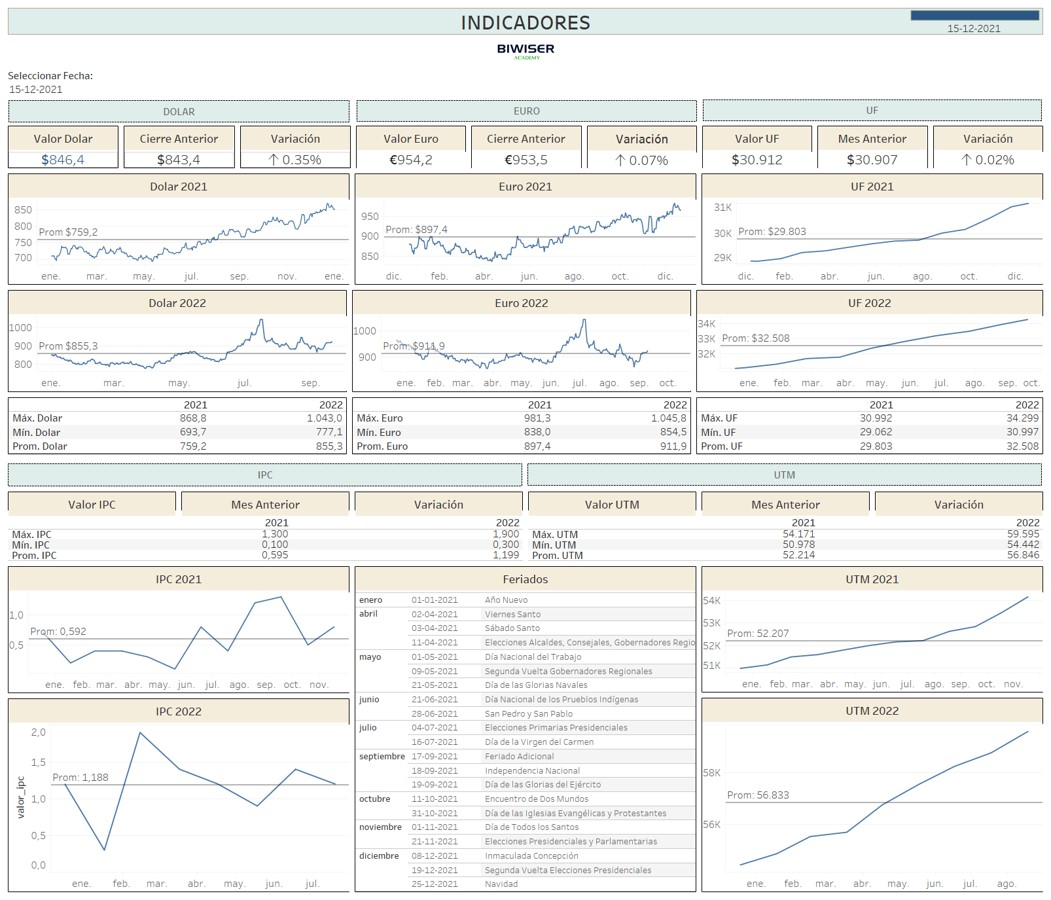

The dashboard page shown, as its layout file describes it:
{"tool":"tableau","page":{"name":"Dashboard 1","canvas":[1000,1000],"units":"permille","ordinal":0},"visuals":[{"type":"title","box":[5,5.8,989.9,35.6]},{"type":"legend","title":"Dolar","param":"[Parameters].[Parámetro 1]","box":[864.3,8.7,127.7,28.4]},{"type":"image","param":"Image/biwiser-logo.png","box":[5,41.5,989.9,31.3]},{"type":"parameter","param":"[Parameters].[Parámetro 1]","box":[5,72.7,989.9,40.7]},{"type":"text","box":[668.7,110.5,322.5,24]},{"type":"text","box":[8.1,111.3,324.4,24.7]},{"type":"text","box":[339.4,111.3,323.8,24]},{"type":"worksheet","title":"Dolar","mark":"Automatic","box":[5,136.7,110.4,53.4]},{"type":"worksheet","title":"Dolar -1","mark":"Automatic","box":[115.5,136.7,110.4,53.4]},{"type":"worksheet","title":"Dolar Dif","mark":"Automatic","box":[225.8,136.7,110.4,53.4]},{"type":"worksheet","title":"Euro","mark":"Automatic","box":[336.2,136.7,109.8,53.4]},{"type":"worksheet","title":"Euro -1","mark":"Automatic","box":[446,136.7,109.8,53.4]},{"type":"worksheet","title":"Euro Dif","mark":"Automatic","box":[555.8,136.7,109.8,53.4]},{"type":"worksheet","title":"UF","mark":"Automatic","box":[665.6,136.7,109.8,53.4]},{"type":"worksheet","title":"UF -1","mark":"Automatic","box":[775.3,136.7,109.8,53.4]},{"type":"worksheet","title":"UF Dif","mark":"Automatic","box":[885.1,136.7,109.8,53.4]},{"type":"worksheet","title":"Graf Dolar","mark":"Line","rows":["valor_dolar"],"cols":["fecha"],"box":[5,190.2,330,129.4]},{"type":"worksheet","title":"Graf Euro","mark":"Automatic","rows":["valor_euro"],"cols":["fecha"],"box":[335.1,190.2,330,129.4]},{"type":"worksheet","title":"Graf UF","mark":"Automatic","rows":["valor_uf"],"cols":["fecha"],"box":[665.1,190.2,329.8,129.4]},{"type":"worksheet","title":"Graf Dolar (2)","mark":"Line","rows":["valor_dolar"],"cols":["fecha"],"box":[5,319.6,327.7,118.9]},{"type":"worksheet","title":"Graf Euro (2)","mark":"Automatic","rows":["valor_euro"],"cols":["fecha"],"box":[332.8,319.6,327.6,118.9]},{"type":"worksheet","title":"Graf UF (2)","mark":"Automatic","rows":["valor_uf"],"cols":["fecha"],"box":[660.3,319.6,334.6,118.9]},{"type":"worksheet","title":"Tabla Dolar","mark":"Automatic","cols":["fecha"],"box":[5,438.5,327.7,68.9]},{"type":"worksheet","title":"Tabla Euro","mark":"Automatic","cols":["fecha"],"box":[332.8,438.5,327.6,68.9]},{"type":"worksheet","title":"Tabla UF","mark":"Automatic","cols":["fecha"],"box":[660.3,438.5,334.6,68.9]},{"type":"text","box":[7.5,514.9,489.4,25.4]},{"type":"text","box":[501.9,514.9,489.4,24.7]},{"type":"worksheet","title":"IPC","mark":"Automatic","box":[5,543.2,164.9,53.5]},{"type":"worksheet","title":"IPC -1","mark":"Automatic","box":[169.9,543.2,164.9,53.5]},{"type":"worksheet","title":"IPC Dif","mark":"Automatic","box":[334.8,543.2,165.5,53.5]},{"type":"worksheet","title":"UTM","mark":"Automatic","box":[500.3,543.2,164.9,53.5]},{"type":"worksheet","title":"UTM -1","mark":"Automatic","box":[665.2,543.2,164.9,53.5]},{"type":"worksheet","title":"UTM Dif","mark":"Automatic","box":[830,543.2,164.9,53.5]},{"type":"worksheet","title":"Graf IPC","mark":"Automatic","rows":["valor_ipc"],"cols":["fecha"],"box":[5,596.7,329.9,176.4]},{"type":"worksheet","title":"Feriados","mark":"Automatic","rows":["fecha","fecha","fecha (copia)_1547549436535631877"],"box":[335,596.7,330,397.5]},{"type":"worksheet","title":"Graf UTM","mark":"Automatic","rows":["valor_utm"],"cols":["fecha"],"box":[665,596.7,330,175.6]},{"type":"worksheet","title":"Graf UTM 2","mark":"Automatic","rows":["valor_utm"],"cols":["fecha"],"box":[665,772.4,330,221.8]},{"type":"worksheet","title":"Graf IPC (2)","mark":"Automatic","rows":["valor_ipc"],"cols":["fecha"],"box":[5,773.1,329.9,221.1]}]}

Visuals, with their boxes on the dashboard's canvas, which has no fixed pixel size, in thousandths of its width and height (x1, y1, x2, y2). These are canvas units, not pixel positions in the 1051x900 screenshot, which may show the page scaled, cropped or inside an application window:
title: (x1=5, y1=6, x2=995, y2=41)
"Dolar" legend: (x1=864, y1=9, x2=992, y2=37)
image: (x1=5, y1=42, x2=995, y2=73)
parameter: (x1=5, y1=73, x2=995, y2=113)
text: (x1=669, y1=110, x2=991, y2=134)
text: (x1=8, y1=111, x2=332, y2=136)
text: (x1=339, y1=111, x2=663, y2=135)
"Dolar" worksheet: (x1=5, y1=137, x2=115, y2=190)
"Dolar -1" worksheet: (x1=116, y1=137, x2=226, y2=190)
"Dolar Dif" worksheet: (x1=226, y1=137, x2=336, y2=190)
"Euro" worksheet: (x1=336, y1=137, x2=446, y2=190)
"Euro -1" worksheet: (x1=446, y1=137, x2=556, y2=190)
"Euro Dif" worksheet: (x1=556, y1=137, x2=666, y2=190)
"UF" worksheet: (x1=666, y1=137, x2=775, y2=190)
"UF -1" worksheet: (x1=775, y1=137, x2=885, y2=190)
"UF Dif" worksheet: (x1=885, y1=137, x2=995, y2=190)
"Graf Dolar" worksheet (Line marks): (x1=5, y1=190, x2=335, y2=320)
"Graf Euro" worksheet: (x1=335, y1=190, x2=665, y2=320)
"Graf UF" worksheet: (x1=665, y1=190, x2=995, y2=320)
"Graf Dolar (2)" worksheet (Line marks): (x1=5, y1=320, x2=333, y2=438)
"Graf Euro (2)" worksheet: (x1=333, y1=320, x2=660, y2=438)
"Graf UF (2)" worksheet: (x1=660, y1=320, x2=995, y2=438)
"Tabla Dolar" worksheet: (x1=5, y1=438, x2=333, y2=507)
"Tabla Euro" worksheet: (x1=333, y1=438, x2=660, y2=507)
"Tabla UF" worksheet: (x1=660, y1=438, x2=995, y2=507)
text: (x1=8, y1=515, x2=497, y2=540)
text: (x1=502, y1=515, x2=991, y2=540)
"IPC" worksheet: (x1=5, y1=543, x2=170, y2=597)
"IPC -1" worksheet: (x1=170, y1=543, x2=335, y2=597)
"IPC Dif" worksheet: (x1=335, y1=543, x2=500, y2=597)
"UTM" worksheet: (x1=500, y1=543, x2=665, y2=597)
"UTM -1" worksheet: (x1=665, y1=543, x2=830, y2=597)
"UTM Dif" worksheet: (x1=830, y1=543, x2=995, y2=597)
"Graf IPC" worksheet: (x1=5, y1=597, x2=335, y2=773)
"Feriados" worksheet: (x1=335, y1=597, x2=665, y2=994)
"Graf UTM" worksheet: (x1=665, y1=597, x2=995, y2=772)
"Graf UTM 2" worksheet: (x1=665, y1=772, x2=995, y2=994)
"Graf IPC (2)" worksheet: (x1=5, y1=773, x2=335, y2=994)
